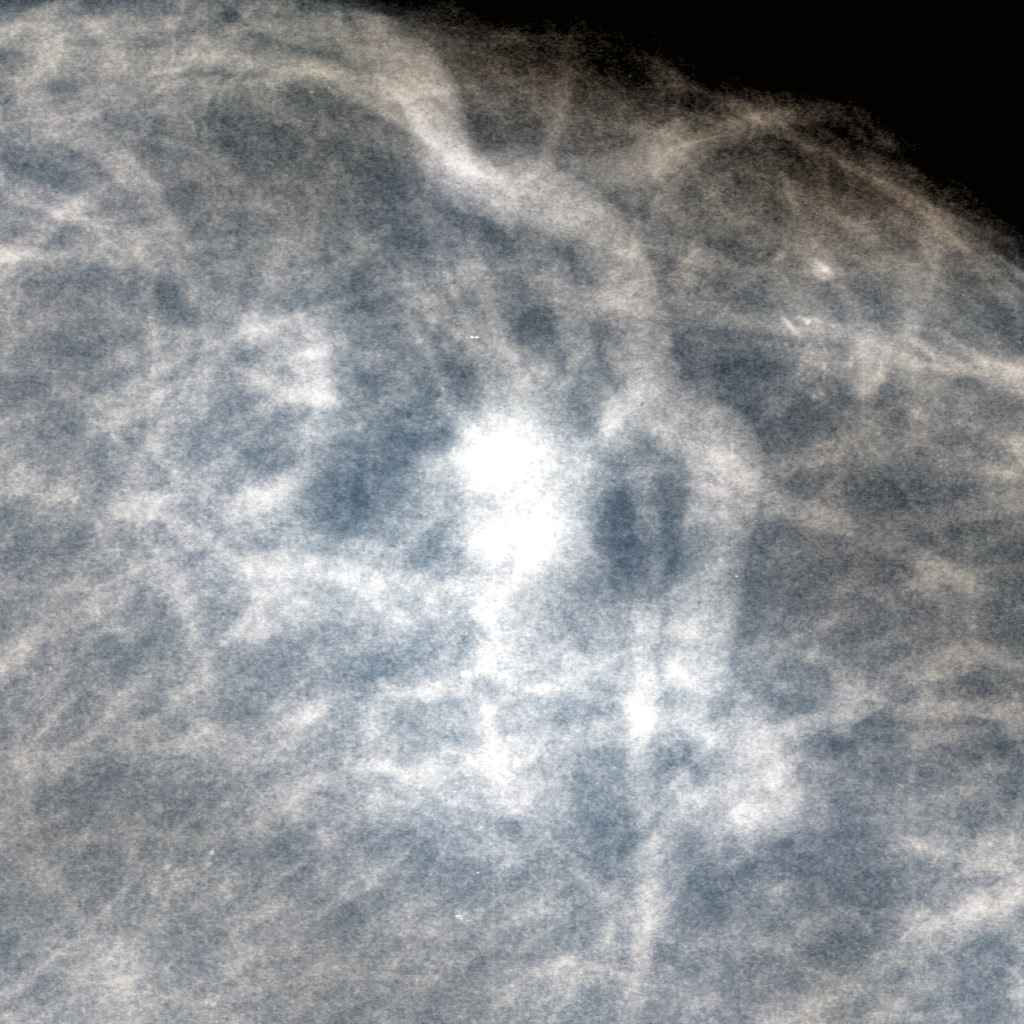tumor: (412, 372, 612, 652)
